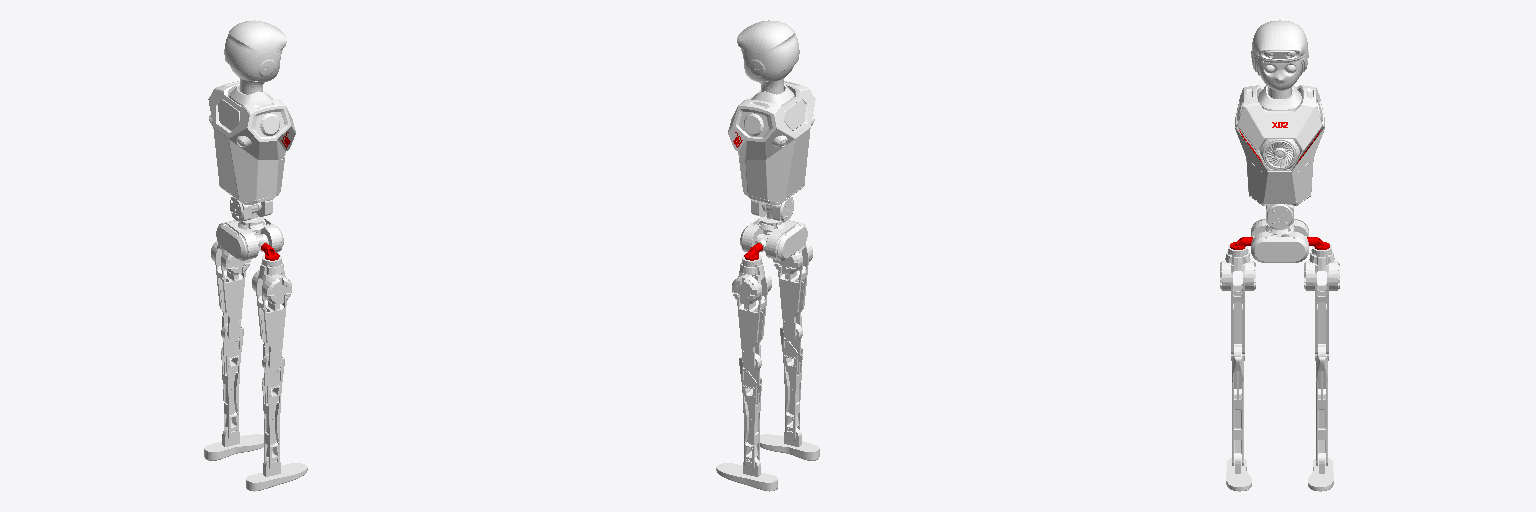
--- Facts derived from the render (not from the file) ---
Views: 3 orthographic renders of the robot side by side, from view 1: azimuth 30°, elevation 25°; view 2: azimuth 150°, elevation 25°; view 3: azimuth 270°, elevation 25°.
Model x03 with 15 links and 14 joints (12 revolute, 2 fixed), rooted at pelvis_link, posed all joints at 0.
Links seen in each view (by area): view 1: waist_roll_link, head_link, R_hip_yaw_link, L_hip_yaw_link, pelvis_link, R_knee_pitch_link, L_knee_pitch_link, R_ankle_pitch_link, L_ankle_pitch_link; view 2: waist_roll_link, head_link, L_hip_yaw_link, R_hip_yaw_link, pelvis_link, L_knee_pitch_link, R_knee_pitch_link, L_ankle_pitch_link, R_ankle_pitch_link; view 3: waist_roll_link, head_link, pelvis_link, L_hip_yaw_link, R_hip_yaw_link, L_knee_pitch_link, R_knee_pitch_link, L_ankle_pitch_link, R_ankle_pitch_link.
Link boxes in pixels (x1,y1,x2,y2): waist_roll_link: (208, 81, 295, 221); head_link: (224, 20, 286, 94); R_hip_yaw_link: (252, 255, 291, 370); L_hip_yaw_link: (211, 241, 250, 340); pelvis_link: (216, 215, 283, 260); R_knee_pitch_link: (262, 353, 284, 471); L_knee_pitch_link: (221, 323, 243, 441); R_ankle_pitch_link: (246, 457, 307, 491); L_ankle_pitch_link: (204, 427, 263, 460); waist_roll_link: (728, 81, 815, 221); head_link: (737, 20, 799, 94); L_hip_yaw_link: (732, 255, 771, 370); R_hip_yaw_link: (773, 241, 812, 340); pelvis_link: (740, 215, 807, 260); L_knee_pitch_link: (739, 353, 761, 471); R_knee_pitch_link: (780, 323, 802, 441); L_ankle_pitch_link: (716, 457, 777, 491); R_ankle_pitch_link: (760, 427, 819, 460); waist_roll_link: (1235, 85, 1324, 228); head_link: (1251, 20, 1308, 98); pelvis_link: (1251, 219, 1308, 262); L_hip_yaw_link: (1304, 245, 1339, 360); R_hip_yaw_link: (1220, 245, 1255, 360); L_knee_pitch_link: (1316, 345, 1327, 465); R_knee_pitch_link: (1232, 345, 1243, 465); L_ankle_pitch_link: (1308, 453, 1333, 491); R_ankle_pitch_link: (1226, 453, 1251, 491).
Size in the robot's own frame: 0.268 by 0.416 by 1.73 metres.
Meshes: 15 distinct files referenced, 15 mesh visuals loaded (15 binary STL).

URDF robot description (x03):
<?xml version="1.0" encoding="utf-8"?>
<!-- This URDF was automatically created by SolidWorks to URDF Exporter! Originally created by Stephen Brawner ([email redacted]) 
     Commit Version: 1.6.0-4-g7f85cfe  Build Version: 1.6.7995.38578
     For more information, please see http://wiki.ros.org/sw_urdf_exporter -->
<robot name="x03">
  <mujoco>
    <compiler meshdir="./meshes" discardvisual="false"/>
  </mujoco>

<!--  <link name="world"></link>-->
<!--  <joint name="pelvis_link" type="floating">-->
<!--    <parent link="world"/>-->
<!--    <child link="pelvis_link"/>-->
<!--  </joint>-->

  <link name="pelvis_link">
    <inertial>
      <origin xyz="-0.0061086 2.746E-07 -0.21231" rpy="0 0 0" />
      <mass value="3.69" />
      <inertia ixx="0.0058423" ixy="-8.0542E-09" ixz="1.1152E-05" iyy="0.0051067" iyz="2.0728E-09" izz="0.0079343" />
    </inertial>
    <!-- <inertial>
      <origin xyz="-0.01046077 -0.0000361 -0.20362414" rpy="0 0 0" />
      <mass value="3.69" />
      <inertia ixx="0.01159608" ixy="0.00003693" ixz="0.00048158" iyy="0.01140767" iyz="0.00006057" izz="0.01432514" />
    </inertial> -->
    <visual>
      <origin xyz="0 0 0" rpy="0 0 0" />
      <geometry>
        <mesh filename="meshes/pelvis_link.STL" />
      </geometry>
      <material name="">
        <color rgba="1 1 1 1" />
      </material>
    </visual>
    <collision>
      <origin xyz="0 0 0" rpy="0 0 0" />
      <geometry>
        <mesh filename="meshes/pelvis_link.STL" />
      </geometry>
    </collision>
  </link>
  <link name="waist_yaw_link">
    <!-- <inertial>
      <origin xyz="-0.00010782 1.0324E-08 0.037701" rpy="0 0 0" />
      <mass value="0.431" />
      <inertia ixx="5.8141E-05" ixy="1.4741E-12" ixz="-4.4183E-07" iyy="5.4231E-05" iyz="2.8156E-11" izz="4.0894E-05" />
    </inertial> -->
    <inertial>
      <origin xyz="-0.00016709 0 0.03880532" rpy="0 0 0" />
      <mass value="0.431" />
      <inertia ixx="0.00012958" ixy="0.00000000" ixz="0.00000125" iyy="0.00014283" iyz="0.00000000" izz="0.00012590" />
    </inertial>
    <visual>
      <origin xyz="0 0 0" rpy="0 0 0" />
      <geometry>
        <mesh filename="meshes/waist_yaw_link.STL" />
      </geometry>
      <material name="">
        <color rgba="1 1 1 1" />
      </material>
    </visual>
<!--    <collision>-->
<!--      <origin xyz="0 0 0" rpy="0 0 0" />-->
<!--      <geometry>-->
<!--        <mesh filename="meshes/waist_yaw_link.STL" />-->
<!--      </geometry>-->
<!--    </collision>-->
  </link>
  <joint name="waist_yaw" type="revolute">
    <origin xyz="0 0 -0.133" rpy="0 0 0" />
    <parent link="pelvis_link" />
    <child link="waist_yaw_link" />
    <axis xyz="0 0 1" />
    <limit lower="-0.7854" upper="0.7854" effort="72" velocity="117.5" />
  </joint>
  <link name="waist_roll_link">
    <!-- <inertial>
      <origin xyz="0.0016564 8.6014E-09 0.25012" rpy="0 0 0" />
      <mass value="10.81" />
      <inertia ixx="0.26699" ixy="-1.2638E-07" ixz="-0.0010145" iyy="0.24688" iyz="5.2967E-07" izz="0.14561" />
    </inertial> -->
    <inertial>
      <origin xyz="0.00192930 0 0.22004922" rpy="0 0 0" />
      <mass value="10.81" />
      <inertia ixx="0.22443657" ixy="-0.00000184" ixz="-0.00006764" iyy="0.21289330" iyz="-0.00000063" izz="0.07877090" />
    </inertial>
    <visual>
      <origin xyz="0 0 0" rpy="0 0 0" />
      <geometry>
        <mesh filename="meshes/waist_roll_link.STL" />
      </geometry>
      <material name="">
        <color rgba="1 1 1 1" />
      </material>
    </visual>
<!--    <collision>-->
<!--      <origin xyz="0 0 0" rpy="0 0 0" />-->
<!--      <geometry>-->
<!--        <mesh filename="meshes/waist_roll_link.STL" />-->
<!--      </geometry>-->
<!--    </collision>-->
  </link>
  <joint name="waist_roll" type="revolute">
    <origin xyz="0 0 0.043" rpy="0 0 0" />
    <parent link="waist_yaw_link" />
    <child link="waist_roll_link" />
    <axis xyz="1 0 0" />
    <limit lower="-0.4363" upper="0.4363" effort="36" velocity="235" />
  </joint>
  <link name="head_link">
    <!-- <inertial>
      <origin xyz="0.018295 8.7152E-05 0.16186" rpy="0 0 0" />
      <mass value="1.07" />
      <inertia ixx="0.0066666" ixy="-1.0327E-06" ixz="-0.00038297" iyy="0.0069077" iyz="-2.0282E-06" izz="0.0042095" />
    </inertial> -->
    <inertial>
      <origin xyz="0.01828675 0.00008734 0.16188204" rpy="0 0 0" />
      <mass value="1.07" />
      <inertia ixx="0.00976863" ixy="-0.00000175" ixz="-0.00056000" iyy="0.01011603" iyz="-0.00000206" izz="0.00616231" />
    </inertial>
    <visual>
      <origin xyz="0 0 0" rpy="0 0 0" />
      <geometry>
        <mesh filename="meshes/head_link.STL" />
      </geometry>
      <material name="">
        <color rgba="1 1 1 1" />
      </material>
    </visual>
    <collision>
      <origin xyz="0 0 0" rpy="0 0 0" />
      <geometry>
        <mesh filename="meshes/head_link.STL" />
      </geometry>
    </collision>
  </link>
  <joint name="head" type="fixed">
    <origin xyz="0 0 0.404" rpy="0 0 0" />
    <parent link="waist_roll_link" />
    <child link="head_link" />
    <axis xyz="0 0 1" />
    <limit lower="-1.5708" upper="1.5708" effort="12" velocity="50" />
  </joint>


  <link name="L_hip_roll_link">
    <!-- <inertial>
      <origin xyz="-0.00010782 0.0052987 4.3837E-09" rpy="0 0 0" />
      <mass value="0.231" />
      <inertia ixx="5.8141E-05" ixy="4.4183E-07" ixz="2.4175E-12" iyy="4.0894E-05" iyz="-2.6168E-11" izz="5.4231E-05" />
    </inertial> -->
    <inertial>
      <origin xyz="-0.00016709 0.00419468 0" rpy="0 0 0" />
      <mass value="0.231" />
      <inertia ixx="0.00012958" ixy="-0.00000125" ixz="0.00000000" iyy="0.00012590" iyz="0.00000000" izz="0.00014283" />
    </inertial>
    <visual>
      <origin xyz="0 0 0" rpy="0 0 0" />
      <geometry>
        <mesh filename="meshes/L_hip_roll_link.STL" />
      </geometry>
      <material name="">
        <color rgba="1 1 1 1" />
      </material>
    </visual>
<!--    <collision>-->
<!--      <origin xyz="0 0 0" rpy="0 0 0" />-->
<!--      <geometry>-->
<!--        <mesh filename="meshes/L_hip_roll_link.STL" />-->
<!--      </geometry>-->
<!--    </collision>-->
  </link>
  <joint name="L_hip_roll" type="revolute">
    <origin xyz="0 0.05 -0.214" rpy="0 0 0" />
    <parent link="pelvis_link" />
    <child link="L_hip_roll_link" />
    <axis xyz="1 0 0" />
    <limit lower="-1.0472" upper="1.0472" effort="36" velocity="235" />
  </joint>
  <link name="L_hip_pitch_link">
    <inertial>
      <origin xyz="-2.9363E-09 -0.02482 -0.0053157" rpy="0 0 0" />
      <mass value="0.562" />
      <inertia ixx="0.00026071" ixy="-6.4779E-11" ixz="-2.9358E-11" iyy="6.9776E-05" iyz="-4.6302E-05" izz="0.00026873" />
    </inertial>
    <!-- <inertial>
      <origin xyz="0 0.02482051 -0.00531577" rpy="0 0 0" />
      <mass value="0.562" />
      <inertia ixx="0.00026070" ixy="0.00000000" ixz="0.00000000" iyy="0.00006978" iyz="-0.00004630" izz="0.00026873" />
    </inertial> -->
    <visual>
      <origin xyz="0 0 0" rpy="0 0 0" />
      <geometry>
        <mesh filename="meshes/L_hip_pitch_link.STL" />
      </geometry>
      <material name="">
        <color rgba="1 0 0 1" />
      </material>
    </visual>
<!--    <collision>-->
<!--      <origin xyz="0 0 0" rpy="0 0 0" />-->
<!--      <geometry>-->
<!--        <mesh filename="meshes/L_hip_pitch_link.STL" />-->
<!--      </geometry>-->
<!--    </collision>-->
  </link>
  <joint name="L_hip_pitch" type="revolute">
    <origin xyz="0 0.0430000000000016 0" rpy="0 0 0" />
    <parent link="L_hip_roll_link" />
    <child link="L_hip_pitch_link" />
    <axis xyz="0 -1 0" />
    <limit lower="-1.0472" upper="1.0472" effort="72" velocity="117.5" />
  </joint>
  <link name="L_hip_yaw_link">
    <!-- <inertial>
      <origin xyz="0.00019541 -4.5701E-06 -0.12457" rpy="0 0 0" />
      <mass value="2.324" />
      <inertia ixx="0.016246" ixy="-1.1614E-07" ixz="6.5017E-05" iyy="0.015818" iyz="-5.3925E-06" izz="0.0019584" />
    </inertial> -->
    <inertial>
      <origin xyz="0.00019541 0.00000455 -0.12907016" rpy="0 0 0" />
      <mass value="2.324" />
      <inertia ixx="0.02774437" ixy="-0.00000020" ixz="-0.00011103" iyy="0.02701229" iyz="-0.00000921" izz="0.00334446" />
    </inertial>
    <visual>
      <origin xyz="0 0 0" rpy="0 0 0" />
      <geometry>
        <mesh filename="meshes/L_hip_yaw_link.STL" />
      </geometry>
      <material name="">
        <color rgba="1 1 1 1" />
      </material>
    </visual>
    <collision>
      <origin xyz="0 0 0" rpy="0 0 0" />
      <geometry>
        <mesh filename="meshes/L_hip_yaw_link.STL" />
      </geometry>
    </collision>
  </link>
  <joint name="L_hip_yaw" type="revolute">
    <origin xyz="0 0.0519999999999982 -0.0425000000000013" rpy="0 0 0" />
    <parent link="L_hip_pitch_link" />
    <child link="L_hip_yaw_link" />
    <axis xyz="0 0 1" />
    <limit lower="-1.0472" upper="1.0472" effort="24" velocity="37" />
  </joint>
  <link name="L_knee_pitch_link">
    <!-- <inertial>
      <origin xyz="0.0019953 -6.2094E-06 -0.13673" rpy="0 0 0" />
      <mass value="0.757" />
      <inertia ixx="0.0056575" ixy="-3.9452E-09" ixz="-7.3205E-05" iyy="0.0057189" iyz="-5.0616E-07" izz="0.00014517" />
    </inertial> -->
    <inertial>
      <origin xyz="0.00263046 -0.00011593 -0.16331546" rpy="0 0 0" />
      <mass value="0.757" />
      <inertia ixx="0.01062442" ixy="0.00000019" ixz="0.00026927" iyy="0.01076371" iyz="0.00001282" izz="0.00033913" />
    </inertial>
    <visual>
      <origin xyz="0 0 0" rpy="0 0 0" />
      <geometry>
        <mesh filename="meshes/L_knee_pitch_link.STL" />
      </geometry>
      <material name="">
        <color rgba="1 1 1 1" />
      </material>
    </visual>
    <collision>
      <origin xyz="0 0 0" rpy="0 0 0" />
      <geometry>
        <mesh filename="meshes/L_knee_pitch_link.STL" />
      </geometry>
    </collision>
  </link>
  <joint name="L_knee_pitch" type="revolute">
    <origin xyz="0 0 -0.3875" rpy="0 0 0" />
    <parent link="L_hip_yaw_link" />
    <child link="L_knee_pitch_link" />
    <axis xyz="0 -1 0" />
    <limit lower="-2.3736" upper="0" effort="93.6" velocity="90" />
  </joint>
  <link name="L_ankle_pitch_link">
    <!-- <inertial>
      <origin xyz="0.02994 -0.0019506 -0.0613" rpy="0 0 0" />
      <mass value="0.465" />
      <inertia ixx="0.00069882" ixy="8.37E-05" ixz="0.00029456" iyy="0.0025593" iyz="-1.9449E-05" izz="0.00225" />
    </inertial> -->
    <inertial>
      <origin xyz="0.03993828 -0.00195001 -0.07629968" rpy="0 0 0" />
      <mass value="0.465" />
      <inertia ixx="0.00055" ixy="0.0" ixz="-0.00000898" iyy="0.00215" iyz="0.0" izz="0.0026" />
    </inertial>
    <visual>
      <origin xyz="0 0 0" rpy="0 0 0" />
      <geometry>
        <mesh filename="meshes/L_ankle_pitch_link.STL" />
      </geometry>
      <material name="">
        <color rgba="1 1 1 1" />
      </material>
    </visual>
<!--    <collision>-->
<!--      <origin xyz="0 0 0" rpy="0 0 0" />-->
<!--      <geometry>-->
<!--        <mesh filename="meshes/L_ankle_pitch_link.STL" />-->
<!--      </geometry>-->
<!--    </collision>-->
<!--    <collision>-->
<!--     <origin xyz="0.02 -0.04 0.02" rpy="0 0 0"/>-->
<!--     <geometry>-->
<!--     <box size="0.26 0.09 0.05"/>-->
<!--     </geometry>-->
<!--    </collision>-->
    <collision>
      <origin xyz="-0.105 -0.0 -0.072" rpy="0 0 0"/>
      <geometry>
        <sphere radius="0.005"/>
      </geometry>
    </collision>
    <collision>
      <origin xyz="0.145 -0.01 -0.05" rpy="0 0 0"/>
      <geometry>
        <sphere radius="0.005"/>
      </geometry>
    </collision>
    <collision>
      <origin xyz="0.07 0.045 -0.056" rpy="0 0 0"/>
      <geometry>
        <sphere radius="0.005"/>
      </geometry>
    </collision>
    <collision>
      <origin xyz="0.07 -0.045 -0.056" rpy="0 0 0"/>
      <geometry>
        <sphere radius="0.005"/>
      </geometry>
    </collision>
    <collision>
      <origin xyz="0.0 0.035 -0.062" rpy="0 0 0"/>
      <geometry>
        <sphere radius="0.005"/>
      </geometry>
    </collision>
    <collision>
      <origin xyz="0.0 -0.03 -0.062" rpy="0 0 0"/>
      <geometry>
        <sphere radius="0.005"/>
      </geometry>
    </collision>
    <collision>
      <origin xyz="-0.05 0.035 -0.067" rpy="0 0 0"/>
      <geometry>
        <sphere radius="0.005"/>
      </geometry>
    </collision>
    <collision>
      <origin xyz="-0.05 -0.03 -0.067" rpy="0 0 0"/>
      <geometry>
        <sphere radius="0.005"/>
      </geometry>
    </collision>
  </link>
  <joint name="L_ankle_pitch" type="revolute">
    <origin xyz="0 0 -0.4" rpy="0 0 0" />
    <parent link="L_knee_pitch_link" />
    <child link="L_ankle_pitch_link" />
    <axis xyz="0 -1 0" />
    <limit lower="-1.0472" upper="1.0472" effort="64.8" velocity="130" />
  </joint>
  <link name="R_hip_roll_link">
    <!-- <inertial>
      <origin xyz="-0.00010782 -0.0052987 -1.2399E-11" rpy="0 0 0" />
      <mass value="0.231" />
      <inertia ixx="5.8141E-05" ixy="-4.4181E-07" ixz="5.8834E-12" iyy="4.0894E-05" iyz="4.9391E-11" izz="5.4231E-05" />
    </inertial> -->
    <inertial>
      <origin xyz="-0.00010806 -0.00529873 0" rpy="0 0 0" />
      <mass value="0.231" />
      <inertia ixx="0.00012958" ixy="0.00000125" ixz="-0.00000000" iyy="0.00012590" iyz="0.00000000" izz="0.00014283" />
    </inertial>
    <visual>
      <origin xyz="0 0 0" rpy="0 0 0" />
      <geometry>
        <mesh filename="meshes/R_hip_roll_link.STL" />
      </geometry>
      <material name="">
        <color rgba="1 1 1 1" />
      </material>
    </visual>
<!--    <collision>-->
<!--      <origin xyz="0 0 0" rpy="0 0 0" />-->
<!--      <geometry>-->
<!--        <mesh filename="meshes/R_hip_roll_link.STL" />-->
<!--      </geometry>-->
<!--    </collision>-->
  </link>
  <joint name="R_hip_roll" type="revolute">
    <origin xyz="0 -0.05 -0.214" rpy="0 0 0" />
    <parent link="pelvis_link" />
    <child link="R_hip_roll_link" />
    <axis xyz="-1 0 0" />
    <limit lower="-1.0472" upper="1.0472" effort="36" velocity="235" />
  </joint>
  <link name="R_hip_pitch_link">
    <inertial>
      <origin xyz="-2.9363E-09 -0.02482 -0.0053157" rpy="0 0 0" />
      <mass value="0.562" />
      <inertia ixx="0.00026070" ixy="-0.00000000" ixz="0.00000000" iyy="0.00006978" iyz="0.00004630" izz="0.00026873" />
    </inertial>
    <!-- <inertial>
      <origin xyz="0 -0.02482051 -0.00531577" rpy="0 0 0" />
      <mass value="0.562" />
      <inertia ixx="0.00026070" ixy="0.00000000" ixz="0.00000000" iyy="0.00006978" iyz="0.00004630" izz="0.00026873" />
    </inertial> -->
    <visual>
      <origin xyz="0 0 0" rpy="0 0 0" />
      <geometry>
        <mesh filename="meshes/R_hip_pitch_link.STL" />
      </geometry>
      <material name="">
        <color rgba="1 0 0 1" />
      </material>
    </visual>
<!--    <collision>-->
<!--      <origin xyz="0 0 0" rpy="0 0 0" />-->
<!--      <geometry>-->
<!--        <mesh filename="meshes/R_hip_pitch_link.STL" />-->
<!--      </geometry>-->
<!--    </collision>-->
  </link>
  <joint name="R_hip_pitch" type="revolute">
    <origin xyz="0 -0.0430000000000016 0" rpy="0 0 0" />
    <parent link="R_hip_roll_link" />
    <child link="R_hip_pitch_link" />
    <axis xyz="0 -1 0" />
    <limit lower="-1.0472" upper="1.0472" effort="72" velocity="117.5" />
  </joint>
  <link name="R_hip_yaw_link">
    <!-- <inertial>
      <origin xyz="0.00019541 4.5682E-06 -0.12457" rpy="0 0 0" />
      <mass value="2.324" />
      <inertia ixx="0.016246" ixy="1.1637E-07" ixz="6.5017E-05" iyy="0.015818" iyz="5.3927E-06" izz="0.0019584" />
    </inertial> -->
    <inertial>
      <origin xyz="0.00019541 0.00000455 -0.12457016" rpy="0 0 0" />
      <mass value="2.324" />
      <inertia ixx="0.02774437" ixy="-0.00000020" ixz="0.00011103" iyy="0.02701229" iyz="0.00000921" izz="0.00334446" />
    </inertial>
    <visual>
      <origin xyz="0 0 0" rpy="0 0 0" />
      <geometry>
        <mesh filename="meshes/R_hip_yaw_link.STL" />
      </geometry>
      <material name="">
        <color rgba="1 1 1 1" />
      </material>
    </visual>
    <collision>
      <origin xyz="0 0 0" rpy="0 0 0" />
      <geometry>
        <mesh filename="meshes/R_hip_yaw_link.STL" />
      </geometry>
    </collision>
  </link>
  <joint name="R_hip_yaw" type="revolute">
    <origin xyz="0 -0.0519999999999984 -0.0425000000000004" rpy="0 0 0" />
    <parent link="R_hip_pitch_link" />
    <child link="R_hip_yaw_link" />
    <axis xyz="0 0 -1" />
    <limit lower="-1.0472" upper="1.0472" effort="24" velocity="37" />
  </joint>
  <link name="R_knee_pitch_link">
    <!-- <inertial>
      <origin xyz="0.0019954 6.1928E-06 -0.13673" rpy="0 0 0" />
      <mass value="0.757" />
      <inertia ixx="0.0056575" ixy="4.1588E-09" ixz="-7.3209E-05" iyy="0.0057189" iyz="5.0676E-07" izz="0.00014517" />
    </inertial> -->
    <inertial>
      <origin xyz="0.00263046 -0.00011593 -0.16331546" rpy="0 0 0" />
      <mass value="0.757" />
      <inertia ixx="0.01062442" ixy="-0.00000019" ixz="0.00026927" iyy="0.01076371" iyz="-0.00001282" izz="0.00033913" />
    </inertial>
    <visual>
      <origin xyz="0 0 0" rpy="0 0 0" />
      <geometry>
        <mesh filename="meshes/R_knee_pitch_link.STL" />
      </geometry>
      <material name="">
        <color rgba="1 1 1 1" />
      </material>
    </visual>
    <collision>
      <origin xyz="0 0 0" rpy="0 0 0" />
      <geometry>
        <mesh filename="meshes/R_knee_pitch_link.STL" />
      </geometry>
    </collision>
  </link>
  <joint name="R_knee_pitch" type="revolute">
    <origin xyz="0 0 -0.3875" rpy="0 0 0" />
    <parent link="R_hip_yaw_link" />
    <child link="R_knee_pitch_link" />
    <axis xyz="0 -1 0" />
    <limit lower="-2.3736" upper="0" effort="93.6" velocity="90" />
  </joint>
  <link name="R_ankle_pitch_link">
    <!-- <inertial>
      <origin xyz="0.02994 0.0019509 -0.0613" rpy="0 0 0" />
      <mass value="0.465" />
      <inertia ixx="0.00069883" ixy="-8.3713E-05" ixz="0.00029456" iyy="0.0025593" iyz="1.9449E-05" izz="0.00225" />
    </inertial> -->
    <inertial>
      <origin xyz="0.03993828 -0.00195001 -0.07629968" rpy="0 0 0" />
      <mass value="0.465" />
      <inertia ixx="0.00055" ixy="0.0" ixz="-0.00000898" iyy="0.00215" iyz="0.0" izz="0.0026" />
    </inertial>
    <visual>
      <origin xyz="0 0 0" rpy="0 0 0" />
      <geometry>
        <mesh filename="meshes/R_ankle_pitch_link.STL" />
      </geometry>
      <material name="">
        <color rgba="1 1 1 1" />
      </material>
    </visual>
<!--    <collision>-->
<!--      <origin xyz="0 0 0" rpy="0 0 0" />-->
<!--      <geometry>-->
<!--        <mesh filename="meshes/R_ankle_pitch_link.STL" />-->
<!--      </geometry>-->
<!--    </collision>-->
<!--    <collision>-->
<!--     <origin xyz="0.02 0.04 0.02" rpy="0 0 0"/>-->
<!--     <geometry>-->
<!--     <box size="0.26 0.09 0.05"/>-->
<!--     </geometry>-->
<!--    </collision>-->
    <collision>
      <origin xyz="-0.105 -0.0 -0.072" rpy="0 0 0"/>
      <geometry>
        <sphere radius="0.005"/>
      </geometry>
    </collision>
    <collision>
      <origin xyz="0.145 0.01 -0.05" rpy="0 0 0"/>
      <geometry>
        <sphere radius="0.005"/>
      </geometry>
    </collision>
    <collision>
      <origin xyz="0.07 0.045 -0.056" rpy="0 0 0"/>
      <geometry>
        <sphere radius="0.005"/>
      </geometry>
    </collision>
    <collision>
      <origin xyz="0.07 -0.045 -0.056" rpy="0 0 0"/>
      <geometry>
        <sphere radius="0.005"/>
      </geometry>
    </collision>
    <collision>
      <origin xyz="0.0 -0.035 -0.062" rpy="0 0 0"/>
      <geometry>
        <sphere radius="0.005"/>
      </geometry>
    </collision>
    <collision>
      <origin xyz="0.0 0.03 -0.062" rpy="0 0 0"/>
      <geometry>
        <sphere radius="0.005"/>
      </geometry>
    </collision>
    <collision>
      <origin xyz="-0.05 -0.035 -0.067" rpy="0 0 0"/>
      <geometry>
        <sphere radius="0.005"/>
      </geometry>
    </collision>
    <collision>
      <origin xyz="-0.05 0.03 -0.067" rpy="0 0 0"/>
      <geometry>
        <sphere radius="0.005"/>
      </geometry>
    </collision>
  </link>
  <joint name="R_ankle_pitch" type="revolute">
    <origin xyz="0 0 -0.4" rpy="0 0 0" />
    <parent link="R_knee_pitch_link" />
    <child link="R_ankle_pitch_link" />
    <axis xyz="0 -1 0" />
    <limit lower="-1.0472" upper="1.0472" effort="64.8" velocity="130" />
  </joint>

  <link name="logo_link">
    <inertial>
      <origin xyz="0.0871329867578759 0.000311413849754188 0.196173346059318" rpy="0 0 0" />
      <mass value="0.00512067016238132" />
      <inertia ixx="1.2355192806412E-06" ixy="-8.30865245553351E-11" ixz="4.47381968459601E-07" iyy="1.10152197064289E-06" iyz="5.47449851950253E-10" izz="9.74577588908281E-07" />
    </inertial>
    <visual>
      <origin xyz="0 0 0" rpy="0 0 0" />
      <geometry>
        <mesh filename="meshes/logo_link.STL" />
      </geometry>
      <material name="">
        <color rgba="1 0 0 1" />
      </material>
    </visual>
    <collision>
      <origin xyz="0 0 0" rpy="0 0 0" />
      <geometry>
        <mesh filename="meshes/logo_link.STL" />
      </geometry>
    </collision>
  </link>
  <joint name="logo" type="fixed">
    <origin xyz="0 0 0.09" rpy="0 0 0" />
    <parent link="waist_roll_link" />
    <child link="logo_link" />
    <axis xyz="0 0 0" />
  </joint>

<!--  <link name="L_shoulder_pitch_link">-->
<!--    <inertial>-->
<!--      <origin xyz="4.4218E-09 -4.5215E-08 0.02287" rpy="0 0 0" />-->
<!--      <mass value="0.763" />-->
<!--      <inertia ixx="5.177E-05" ixy="-7.4692E-11" ixz="6.7773E-12" iyy="2.7775E-05" iyz="1.632E-11" izz="3.6513E-05" />-->
<!--    </inertial>-->
<!--    <visual>-->
<!--      <origin xyz="0 0 0" rpy="0 0 0" />-->
<!--      <geometry>-->
<!--        <mesh filename="meshes/L_shoulder_pitch_link.STL" />-->
<!--      </geometry>-->
<!--      <material name="">-->
<!--        <color rgba="1 1 1 1" />-->
<!--      </material>-->
<!--    </visual>-->
<!--    <collision>-->
<!--      <origin xyz="0 0 0" rpy="0 0 0" />-->
<!--      <geometry>-->
<!--        <mesh filename="meshes/L_shoulder_pitch_link.STL" />-->
<!--      </geometry>-->
<!--    </collision>-->
<!--  </link>-->
<!--  <joint name="L_shoulder_pitch" type="fixed">-->
<!--    <origin xyz="0 0.140425190814725 0.371226723951712" rpy="0 1.30899693899578 1.5707963267949" />-->
<!--    <parent link="waist_roll_link" />-->
<!--    <child link="L_shoulder_pitch_link" />-->
<!--    <axis xyz="0 0 -1" />-->
<!--    <limit lower="-1.5707" upper="3.1416" effort="12" velocity="50" />-->
<!--  </joint>-->
<!--  <link name="L_shoulder_roll_link">-->
<!--    <inertial>-->
<!--      <origin xyz="0.03472 -0.00020364 -3.8868E-09" rpy="0 0 0" />-->
<!--      <mass value="0.725" />-->
<!--      <inertia ixx="0.00022363" ixy="4.2302E-06" ixz="1.3678E-10" iyy="0.0008396" iyz="-9.6421E-12" izz="0.00084896" />-->
<!--    </inertial>-->
<!--    <visual>-->
<!--      <origin xyz="0 0 0" rpy="0 0 0" />-->
<!--      <geometry>-->
<!--        <mesh filename="meshes/L_shoulder_roll_link.STL" />-->
<!--      </geometry>-->
<!--      <material name="">-->
<!--        <color rgba="1 1 1 1" />-->
<!--      </material>-->
<!--    </visual>-->
<!--    <collision>-->
<!--      <origin xyz="0 0 0" rpy="0 0 0" />-->
<!--      <geometry>-->
<!--        <mesh filename="meshes/L_shoulder_roll_link.STL" />-->
<!--      </geometry>-->
<!--    </collision>-->
<!--  </link>-->
<!--  <joint name="L_shoulder_roll" type="fixed">-->
<!--    <origin xyz="0 0 0.0574999999999974" rpy="-1.5707963267949 0.261799387799121 0" />-->
<!--    <parent link="L_shoulder_pitch_link" />-->
<!--    <child link="L_shoulder_roll_link" />-->
<!--    <axis xyz="0 0 -1" />-->
<!--    <limit lower="0" upper="1.5707" effort="6.6" velocity="50" />-->
<!--  </joint>-->
<!--  <link name="L_shoulder_yaw_link">-->
<!--    <inertial>-->
<!--      <origin xyz="1.0693E-08 0.00040667 0.084068" rpy="0 0 0" />-->
<!--      <mass value="0.513" />-->
<!--      <inertia ixx="0.0012458" ixy="5.297E-11" ixz="3.2573E-10" iyy="0.0012467" iyz="6.3281E-05" izz="0.00022286" />-->
<!--    </inertial>-->
<!--    <visual>-->
<!--      <origin xyz="0 0 0" rpy="0 0 0" />-->
<!--      <geometry>-->
<!--        <mesh filename="meshes/L_shoulder_yaw_link.STL" />-->
<!--      </geometry>-->
<!--      <material name="">-->
<!--        <color rgba="1 1 1 1" />-->
<!--      </material>-->
<!--    </visual>-->
<!--    <collision>-->
<!--      <origin xyz="0 0 0" rpy="0 0 0" />-->
<!--      <geometry>-->
<!--        <mesh filename="meshes/L_shoulder_yaw_link.STL" />-->
<!--      </geometry>-->
<!--    </collision>-->
<!--  </link>-->
<!--  <joint name="L_shoulder_yaw" type="fixed">-->
<!--    <origin xyz="0.112 0 0" rpy="1.5707963267949 0 1.5707963267949" />-->
<!--    <parent link="L_shoulder_roll_link" />-->
<!--    <child link="L_shoulder_yaw_link" />-->
<!--    <axis xyz="0 0 -1" />-->
<!--    <limit lower="-2.2689" upper="2.2689" effort="6.6" velocity="50" />-->
<!--  </joint>-->
<!--  <link name="L_elbow_pitch_link">-->
<!--    <inertial>-->
<!--      <origin xyz="0.056038 -0.011478 2.3323E-08" rpy="0 0 0" />-->
<!--      <mass value="0.385" />-->
<!--      <inertia ixx="9.5648E-05" ixy="-8.4499E-06" ixz="-2.3351E-10" iyy="0.00027307" iyz="-3.1898E-10" izz="0.00024995" />-->
<!--    </inertial>-->
<!--    <visual>-->
<!--      <origin xyz="0 0 0" rpy="0 0 0" />-->
<!--      <geometry>-->
<!--        <mesh filename="meshes/L_elbow_pitch_link.STL" />-->
<!--      </geometry>-->
<!--      <material name="">-->
<!--        <color rgba="1 1 1 1" />-->
<!--      </material>-->
<!--    </visual>-->
<!--    <collision>-->
<!--      <origin xyz="0 0 0" rpy="0 0 0" />-->
<!--      <geometry>-->
<!--        <mesh filename="meshes/L_elbow_pitch_link.STL" />-->
<!--      </geometry>-->
<!--    </collision>-->
<!--  </link>-->
<!--  <joint name="L_elbow_pitch" type="fixed">-->
<!--    <origin xyz="0 -0.01 0.148" rpy="1.5708 -3.14 1.5708" />-->
<!--    <parent link="L_shoulder_yaw_link" />-->
<!--    <child link="L_elbow_pitch_link" />-->
<!--    <axis xyz="0 0 1" />-->
<!--    <limit lower="0" upper="2.5307" effort="6.6" velocity="50" />-->
<!--  </joint>-->
<!--  <link name="L_elbow_yaw_link">-->
<!--    <inertial>-->
<!--      <origin xyz="0.0070988 -0.0018426 0.14628" rpy="0 0 0" />-->
<!--      <mass value="1.3" />-->
<!--      <inertia ixx="0.00024244" ixy="9.1137E-07" ixz="-8.1946E-07" iyy="0.00024264" iyz="-2.2014E-08" izz="0.00014634" />-->
<!--    </inertial>-->
<!--    <visual>-->
<!--      <origin xyz="0 0 0" rpy="0 0 0" />-->
<!--      <geometry>-->
<!--        <mesh filename="meshes/L_elbow_yaw_link.STL" />-->
<!--      </geometry>-->
<!--      <material name="">-->
<!--        <color rgba="1 1 1 1" />-->
<!--      </material>-->
<!--    </visual>-->
<!--    <collision>-->
<!--      <origin xyz="0 0 0" rpy="0 0 0" />-->
<!--      <geometry>-->
<!--        <mesh filename="meshes/L_elbow_yaw_link.STL" />-->
<!--      </geometry>-->
<!--    </collision>-->
<!--  </link>-->
<!--  <joint name="L_elbow_yaw" type="fixed">-->
<!--    <origin xyz="0.1085 -0.01 0" rpy="1.5708 -1.5708 1.5708" />-->
<!--    <parent link="L_elbow_pitch_link" />-->
<!--    <child link="L_elbow_yaw_link" />-->
<!--    <axis xyz="0 0 -1" />-->
<!--    <limit lower="-2.2689" upper="2.2689" effort="1" velocity="50" />-->
<!--  </joint>-->


<!--  <link name="R_shoulder_pitch_link">-->
<!--    <inertial>-->
<!--      <origin xyz="4.4218E-09 -4.5215E-08 0.02287" rpy="0 0 0" />-->
<!--      <mass value="0.763" />-->
<!--      <inertia ixx="5.177E-05" ixy="-7.4692E-11" ixz="6.7773E-12" iyy="2.7775E-05" iyz="1.632E-11" izz="3.6513E-05" />-->
<!--    </inertial>-->
<!--    <visual>-->
<!--      <origin xyz="0 0 0" rpy="0 0 0" />-->
<!--      <geometry>-->
<!--        <mesh filename="meshes/R_shoulder_pitch_link.STL" />-->
<!--      </geometry>-->
<!--      <material name="">-->
<!--        <color rgba="1 1 1 1" />-->
<!--      </material>-->
<!--    </visual>-->
<!--    <collision>-->
<!--      <origin xyz="0 0 0" rpy="0 0 0" />-->
<!--      <geometry>-->
<!--        <mesh filename="meshes/R_shoulder_pitch_link.STL" />-->
<!--      </geometry>-->
<!--    </collision>-->
<!--  </link>-->
<!--  <joint name="R_shoulder_pitch" type="fixed">-->
<!--    <origin xyz="0 -0.140425190814725 0.371226723951712" rpy="0 1.30899693899578 -1.5707963267949" />-->
<!--    <parent link="waist_roll_link" />-->
<!--    <child link="R_shoulder_pitch_link" />-->
<!--    <axis xyz="0 0 1" />-->
<!--    <limit lower="-1.5707" upper="3.1416" effort="12" velocity="50" />-->
<!--  </joint>-->
<!--  <link name="R_shoulder_roll_link">-->
<!--    <inertial>-->
<!--      <origin xyz="0.03472 -0.00020363 -9.9611E-09" rpy="0 0 0" />-->
<!--      <mass value="0.725" />-->
<!--      <inertia ixx="0.00022363" ixy="4.2301E-06" ixz="2.1321E-10" iyy="0.0008396" iyz="6.4173E-11" izz="0.00084896" />-->
<!--    </inertial>-->
<!--    <visual>-->
<!--      <origin xyz="0 0 0" rpy="0 0 0" />-->
<!--      <geometry>-->
<!--        <mesh filename="meshes/R_shoulder_roll_link.STL" />-->
<!--      </geometry>-->
<!--      <material name="">-->
<!--        <color rgba="1 1 1 1" />-->
<!--      </material>-->
<!--    </visual>-->
<!--    <collision>-->
<!--      <origin xyz="0 0 0" rpy="0 0 0" />-->
<!--      <geometry>-->
<!--        <mesh filename="meshes/R_shoulder_roll_link.STL" />-->
<!--      </geometry>-->
<!--    </collision>-->
<!--  </link>-->
<!--  <joint name="R_shoulder_roll" type="fixed">-->
<!--    <origin xyz="0 0 0.0574999999999973" rpy="-1.5707963267949 0.261799387799121 0" />-->
<!--    <parent link="R_shoulder_pitch_link" />-->
<!--    <child link="R_shoulder_roll_link" />-->
<!--    <axis xyz="0 0 -1" />-->
<!--    <limit lower="0" upper="1.5707" effort="6.6" velocity="50" />-->
<!--  </joint>-->
<!--  <link name="R_shoulder_yaw_link">-->
<!--    <inertial>-->
<!--      <origin xyz="-1.0693E-08 -0.00040667 0.084068" rpy="0 0 0" />-->
<!--      <mass value="0.513" />-->
<!--      <inertia ixx="0.0012458" ixy="5.2971E-11" ixz="-3.2573E-10" iyy="0.0012467" iyz="-6.3281E-05" izz="0.00022286" />-->
<!--    </inertial>-->
<!--    <visual>-->
<!--      <origin xyz="0 0 0" rpy="0 0 0" />-->
<!--      <geometry>-->
<!--        <mesh filename="meshes/R_shoulder_yaw_link.STL" />-->
<!--      </geometry>-->
<!--      <material name="">-->
<!--        <color rgba="1 1 1 1" />-->
<!--      </material>-->
<!--    </visual>-->
<!--    <collision>-->
<!--      <origin xyz="0 0 0" rpy="0 0 0" />-->
<!--      <geometry>-->
<!--        <mesh filename="meshes/R_shoulder_yaw_link.STL" />-->
<!--      </geometry>-->
<!--    </collision>-->
<!--  </link>-->
<!--  <joint name="R_shoulder_yaw" type="fixed">-->
<!--    <origin xyz="0.112 0 0" rpy="1.5707963267949 0 1.5707963267949" />-->
<!--    <parent link="R_shoulder_roll_link" />-->
<!--    <child link="R_shoulder_yaw_link" />-->
<!--    <axis xyz="0 0 1" />-->
<!--    <limit lower="-2.2689" upper="2.2689" effort="6.6" velocity="50" />-->
<!--  </joint>-->
<!--  <link name="R_elbow_pitch_link">-->
<!--    <inertial>-->
<!--      <origin xyz="0.056038 0.011478 -2.3324E-08" rpy="0 0 0" />-->
<!--      <mass value="0.385" />-->
<!--      <inertia ixx="9.5648E-05" ixy="8.4499E-06" ixz="2.3351E-10" iyy="0.00027307" iyz="-3.1898E-10" izz="0.00024995" />-->
<!--    </inertial>-->
<!--    <visual>-->
<!--      <origin xyz="0 0 0" rpy="0 0 0" />-->
<!--      <geometry>-->
<!--        <mesh filename="meshes/R_elbow_pitch_link.STL" />-->
<!--      </geometry>-->
<!--      <material name="">-->
<!--        <color rgba="1 1 1 1" />-->
<!--      </material>-->
<!--    </visual>-->
<!--    <collision>-->
<!--      <origin xyz="0 0 0" rpy="0 0 0" />-->
<!--      <geometry>-->
<!--        <mesh filename="meshes/R_elbow_pitch_link.STL" />-->
<!--      </geometry>-->
<!--    </collision>-->
<!--  </link>-->
<!--  <joint name="R_elbow_pitch" type="fixed">-->
<!--    <origin xyz="0 0.01 0.148" rpy="1.5708 0 1.5708" />-->
<!--    <parent link="R_shoulder_yaw_link" />-->
<!--    <child link="R_elbow_pitch_link" />-->
<!--    <axis xyz="0 0 -1" />-->
<!--    <limit lower="0" upper="2.5307" effort="6.6" velocity="50" />-->
<!--  </joint>-->
<!--  <link name="R_elbow_yaw_link">-->
<!--    <inertial>-->
<!--      <origin xyz="0.0070988 0.0018422 0.14628" rpy="0 0 0" />-->
<!--      <mass value="1.3" />-->
<!--      <inertia ixx="0.00024245" ixy="-9.1191E-07" ixz="-8.2197E-07" iyy="0.00024264" iyz="1.7973E-08" izz="0.00014634" />-->
<!--    </inertial>-->
<!--    <visual>-->
<!--      <origin xyz="0 0 0" rpy="0 0 0" />-->
<!--      <geometry>-->
<!--        <mesh filename="meshes/R_elbow_yaw_link.STL" />-->
<!--      </geometry>-->
<!--      <material name="">-->
<!--        <color rgba="1 1 1 1" />-->
<!--      </material>-->
<!--    </visual>-->
<!--    <collision>-->
<!--      <origin xyz="0 0 0" rpy="0 0 0" />-->
<!--      <geometry>-->
<!--        <mesh filename="meshes/R_elbow_yaw_link.STL" />-->
<!--      </geometry>-->
<!--    </collision>-->
<!--  </link>-->
<!--  <joint name="R_elbow_yaw" type="fixed">-->
<!--    <origin xyz="0.1085 0.01 0" rpy="1.5708 -1.5708 1.5708" />-->
<!--    <parent link="R_elbow_pitch_link" />-->
<!--    <child link="R_elbow_yaw_link" />-->
<!--    <axis xyz="0 0 1" />-->
<!--    <limit lower="-2.2689" upper="2.2689" effort="1" velocity="50" />-->
<!--  </joint>-->
</robot>
